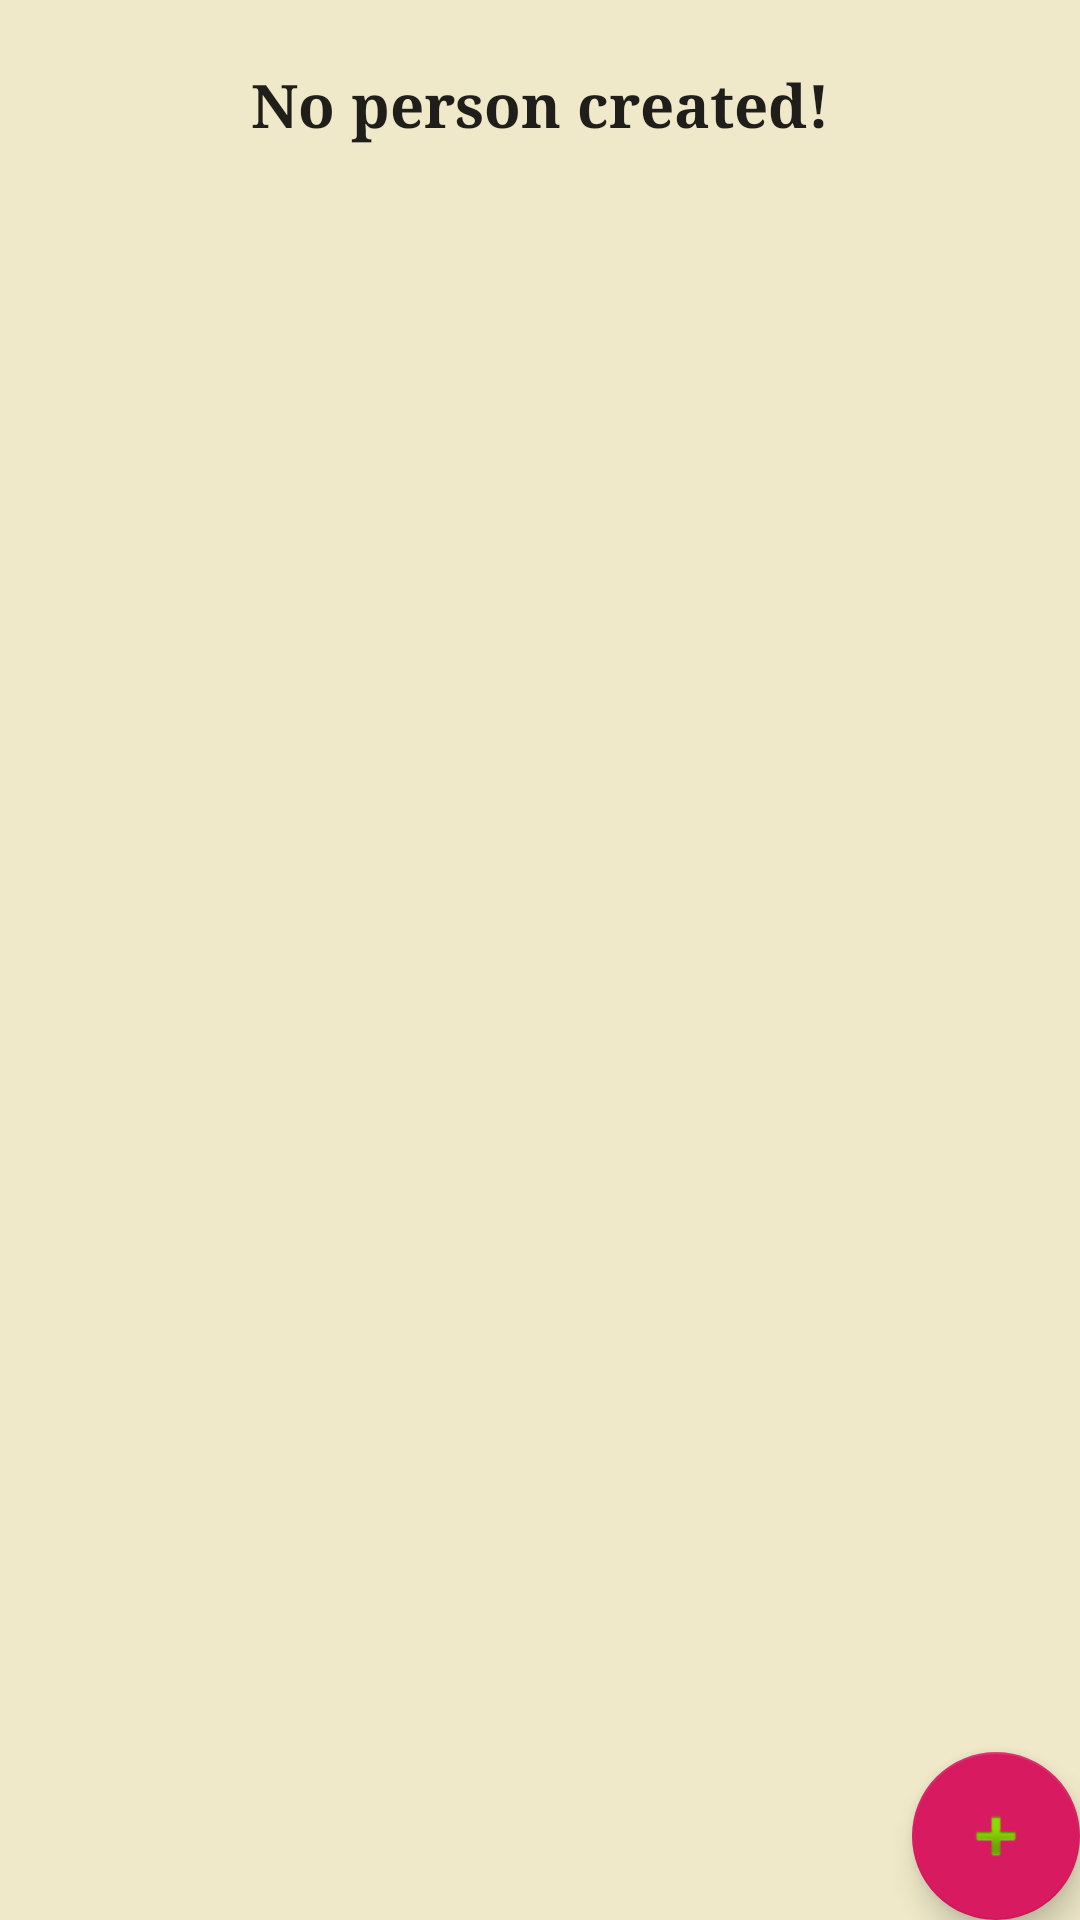

Icons on this 1080*1920 Android screen, each with the point to tap as point (x, y):
add: point (996, 1836)
